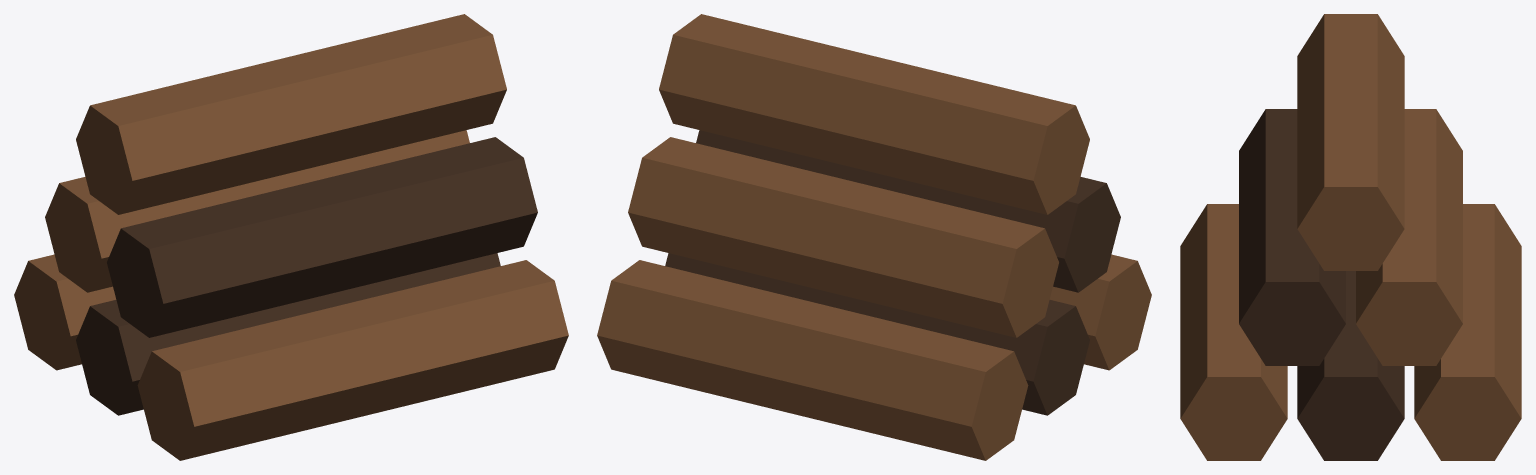
Rendered from Prop_LogBundle.fbx.
3 views of the same model, side by side, from view 1: azimuth 30°, elevation 25°; view 2: azimuth 150°, elevation 25°; view 3: azimuth 270°, elevation 25° (orthographic). The views are drawn at different scales.
Visible parts, largest first — view 1: Prop_LogBundle; view 2: Prop_LogBundle; view 3: Prop_LogBundle.
Boxes of the visible parts, bbox=[...] form: Prop_LogBundle: bbox=[14, 14, 568, 460]; Prop_LogBundle: bbox=[597, 14, 1151, 460]; Prop_LogBundle: bbox=[1180, 14, 1521, 460].
Size of the model in its own units: 84 by 62.05 by 70.
